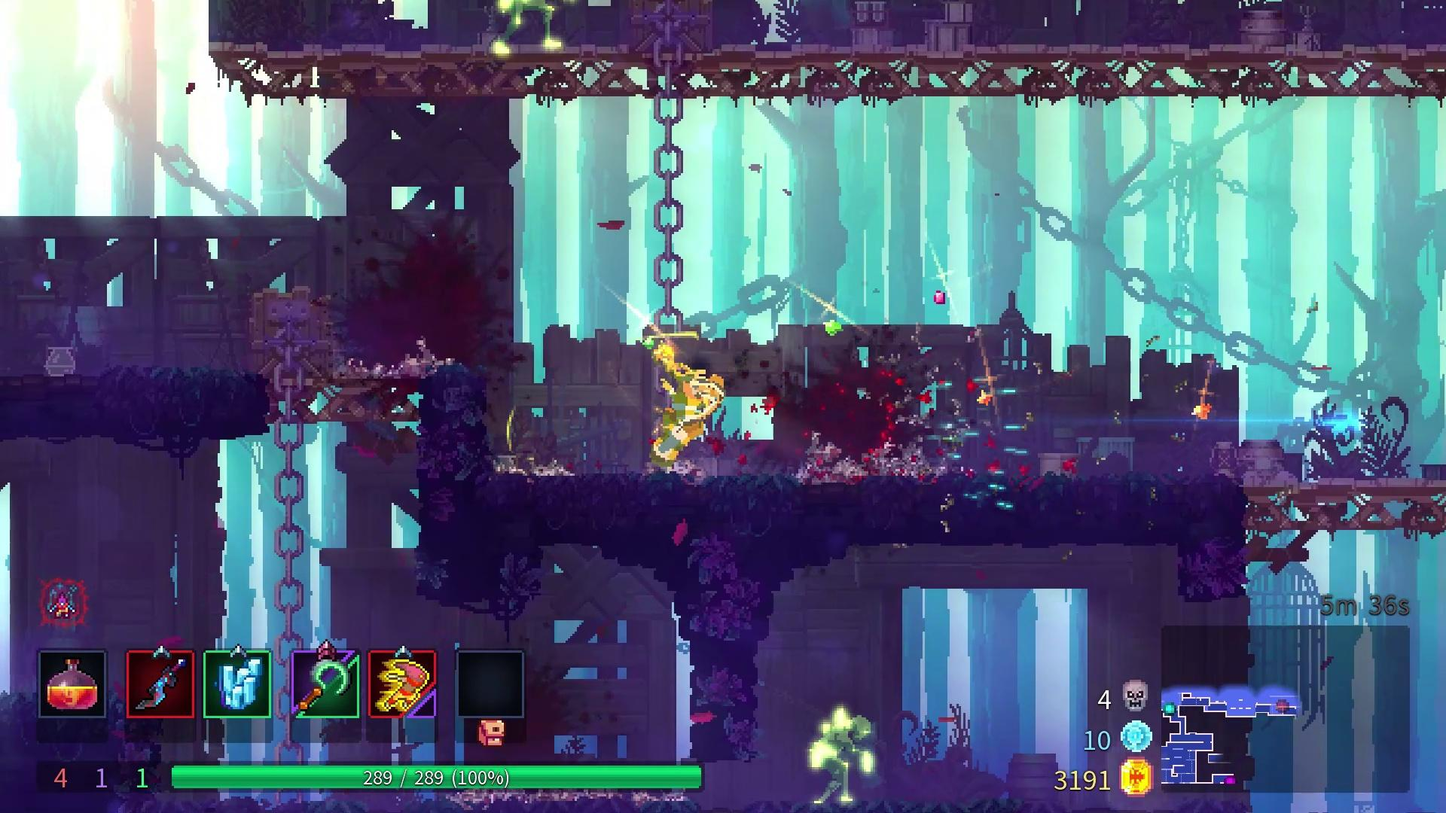gamer: (634, 333, 726, 481)
green1: (796, 689, 880, 810)
